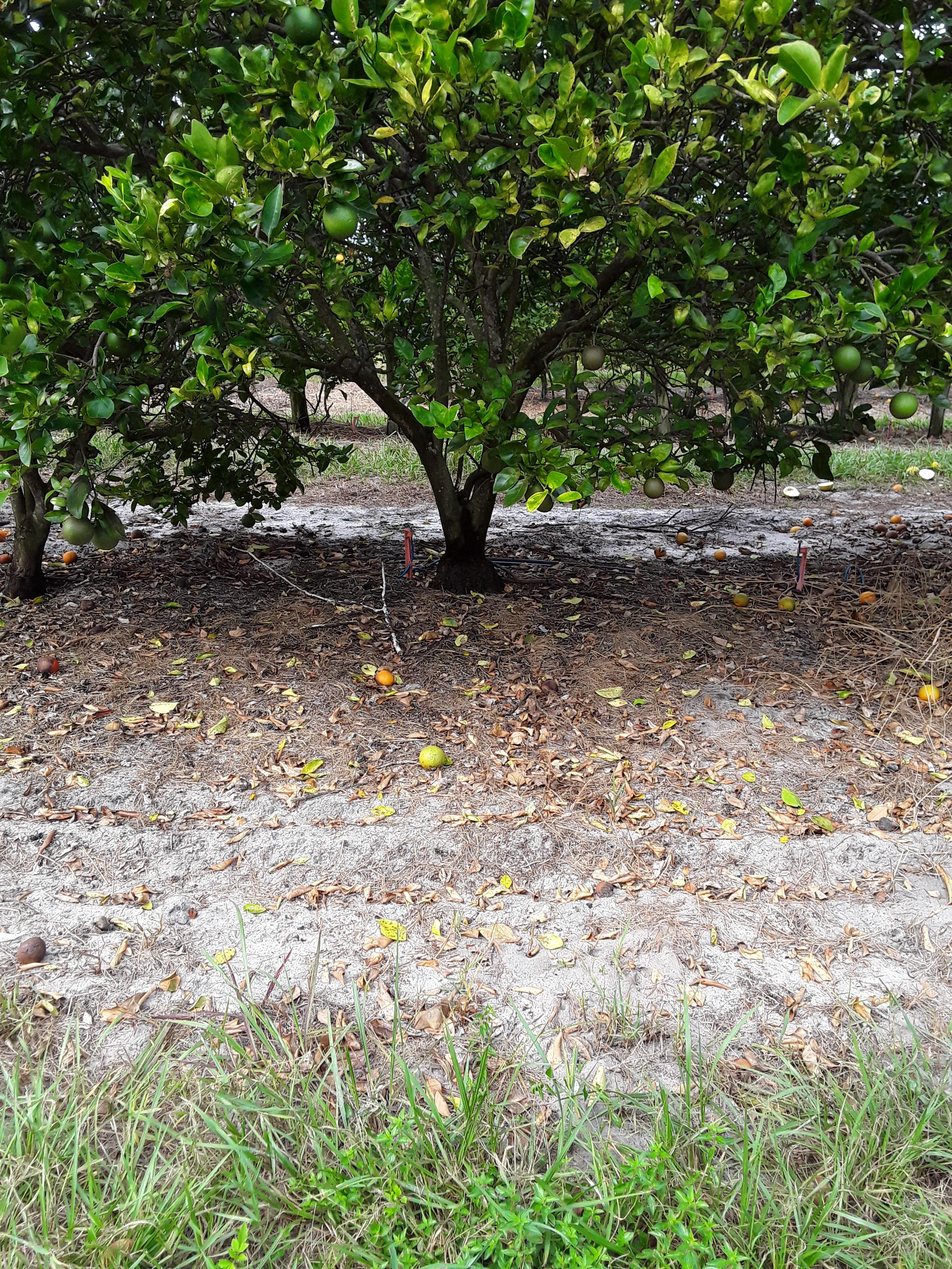fruit_on_ground: (282, 2, 329, 48), (319, 196, 359, 242), (478, 446, 512, 477), (33, 214, 63, 249), (105, 326, 134, 362), (91, 512, 119, 549), (58, 513, 92, 543), (887, 389, 919, 420), (830, 344, 862, 374), (579, 344, 606, 370), (852, 356, 878, 381), (643, 474, 668, 499), (710, 467, 735, 491), (523, 479, 547, 501), (532, 492, 557, 513), (240, 512, 257, 529), (2, 254, 11, 283)
fruit_on_tree: (14, 933, 52, 970), (416, 744, 453, 772), (374, 661, 401, 692), (916, 679, 940, 706), (36, 654, 61, 676), (594, 880, 618, 899), (857, 588, 879, 608), (731, 591, 752, 611), (539, 678, 561, 696), (778, 593, 797, 613), (781, 486, 803, 501), (673, 530, 692, 545), (61, 550, 80, 564), (651, 544, 668, 559), (713, 547, 730, 562), (80, 597, 97, 612), (0, 551, 13, 568), (816, 481, 836, 492), (931, 459, 946, 473), (175, 576, 191, 589), (918, 469, 936, 480), (910, 534, 925, 547), (131, 527, 146, 539), (788, 524, 804, 535), (829, 509, 844, 519), (885, 531, 901, 540), (873, 523, 888, 532), (893, 482, 905, 493), (802, 515, 814, 526), (890, 514, 903, 524), (0, 528, 8, 544), (906, 466, 920, 475), (895, 523, 907, 532), (198, 524, 208, 533), (942, 513, 952, 521)
